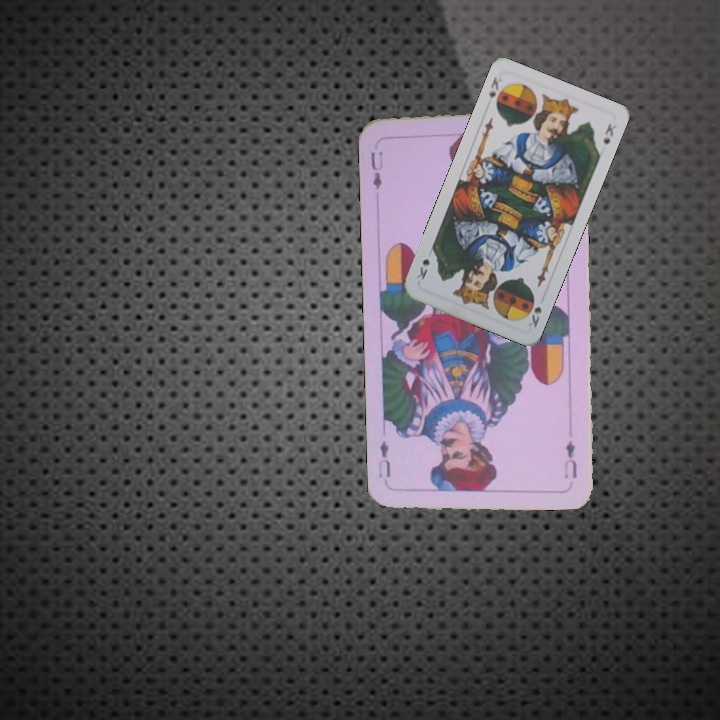EU: (366, 147, 386, 192), (560, 436, 580, 481)
SK: (485, 73, 508, 111), (524, 302, 544, 331)
